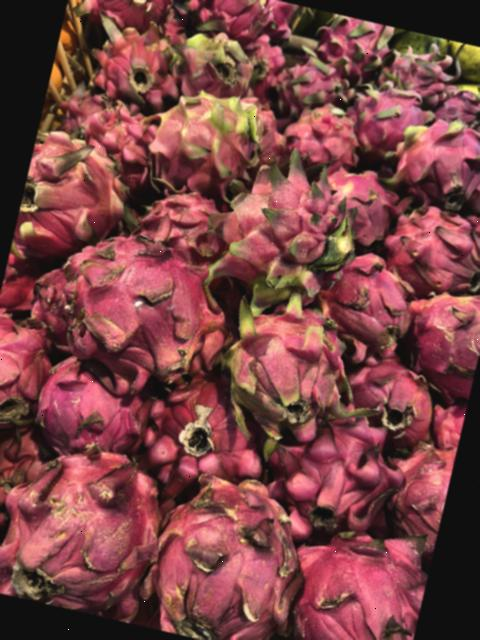buah-naga-belum-matang: (202, 283, 380, 455), (202, 154, 372, 317), (11, 120, 145, 268), (140, 78, 264, 202), (400, 286, 480, 391)
buah-naga-matang: (46, 222, 244, 404), (0, 433, 179, 625), (148, 470, 317, 640), (252, 398, 414, 566), (268, 497, 438, 640), (130, 357, 275, 492), (28, 344, 158, 468), (76, 7, 191, 116), (377, 193, 480, 311), (381, 110, 480, 231), (338, 345, 444, 451), (325, 243, 422, 350), (313, 154, 408, 252), (167, 18, 266, 108), (124, 177, 221, 268), (0, 300, 62, 430), (283, 97, 369, 180)
